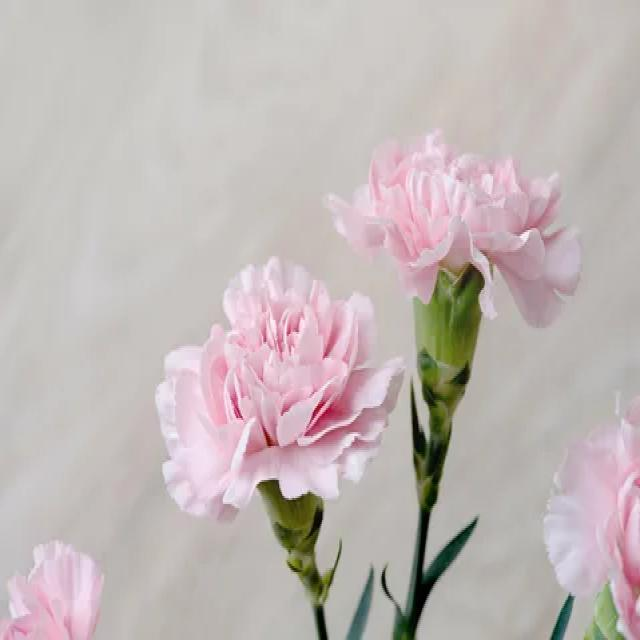carnation: (143, 247, 409, 546)
